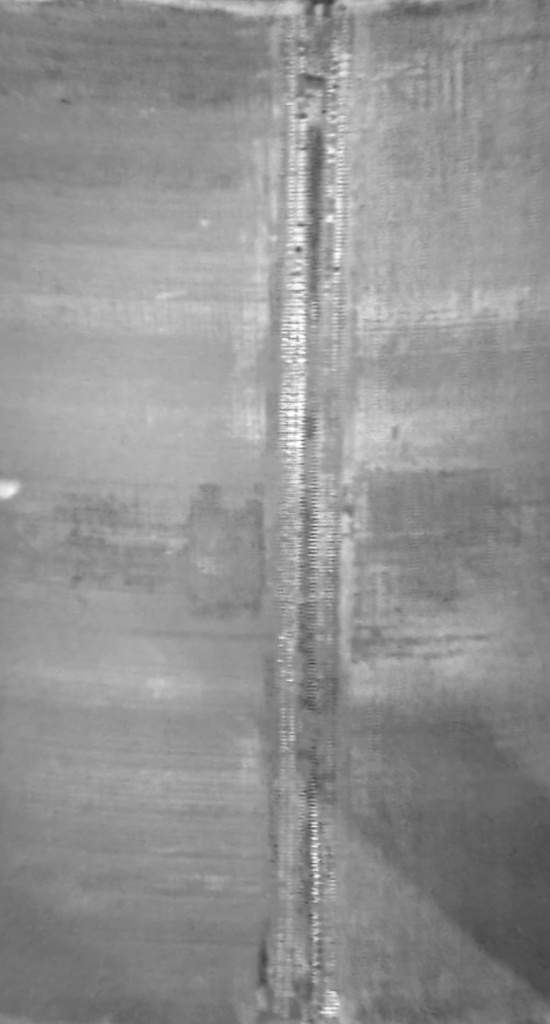splice: (262, 3, 359, 1024)
